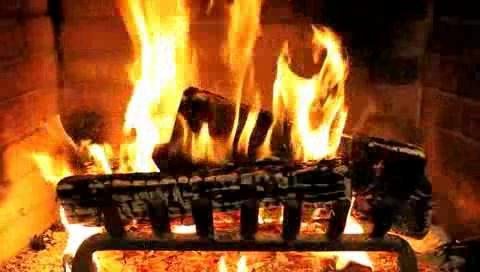fire: (123, 2, 351, 167)
